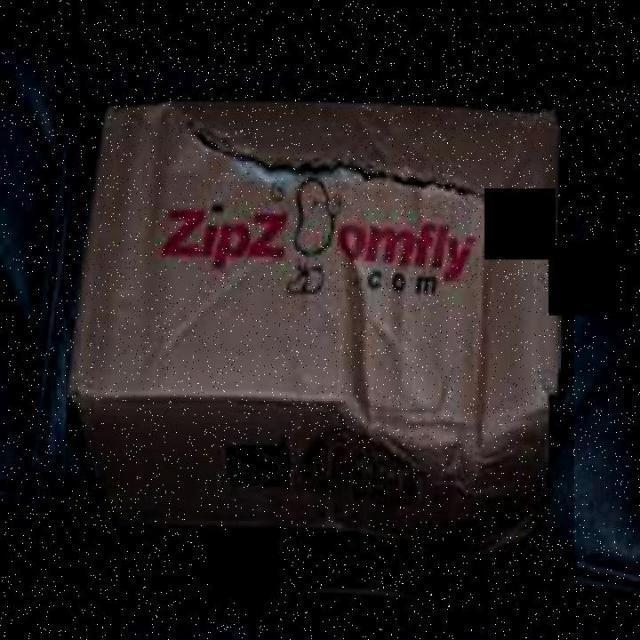box: (66, 89, 574, 620)
